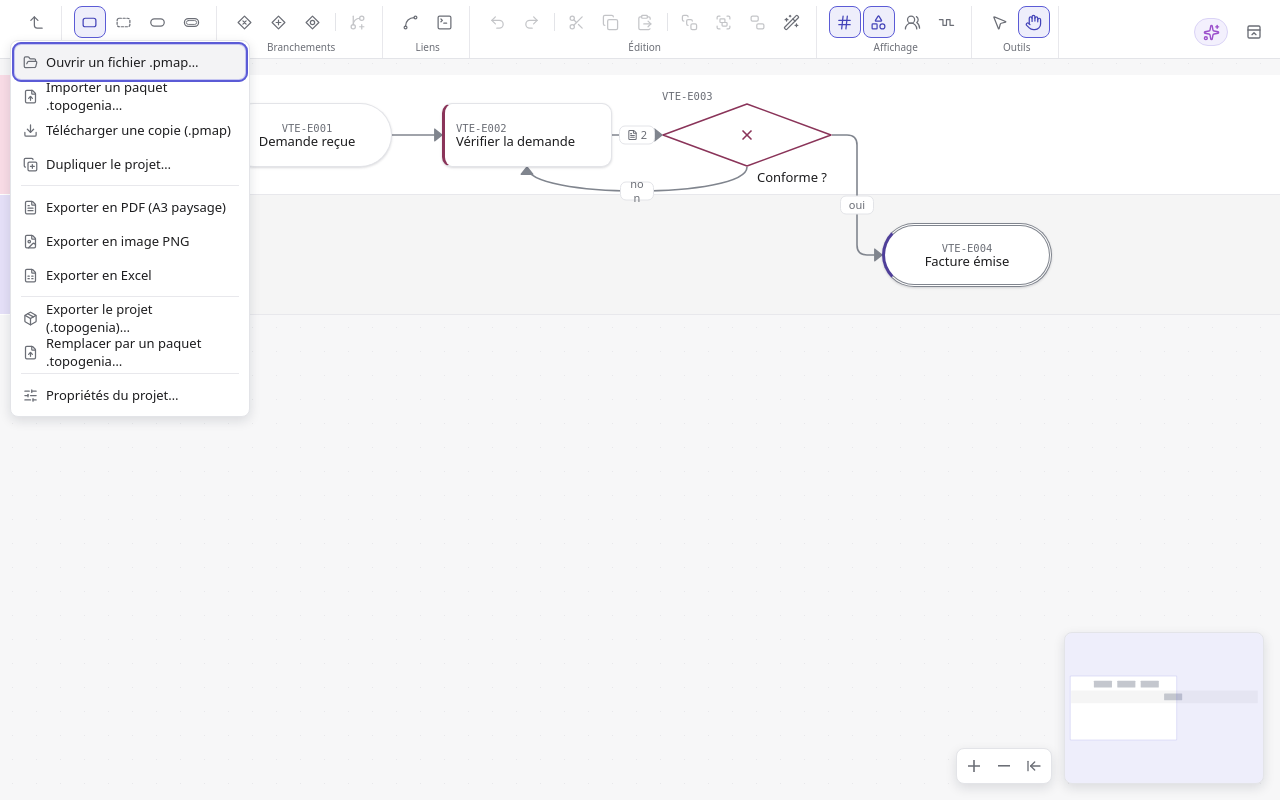
the dialogs of the File menu (B-2.4-53, B-2.4-55, ADR 058) › « Remplacer par un paquet » reads the version of the project and the days of the trash, then opens the replacement
The image size is (1280, 800).
Click the menu item "Remplacer par un paquet .topogenia…" at (130, 352), box left=15, top=335, right=245, bottom=369
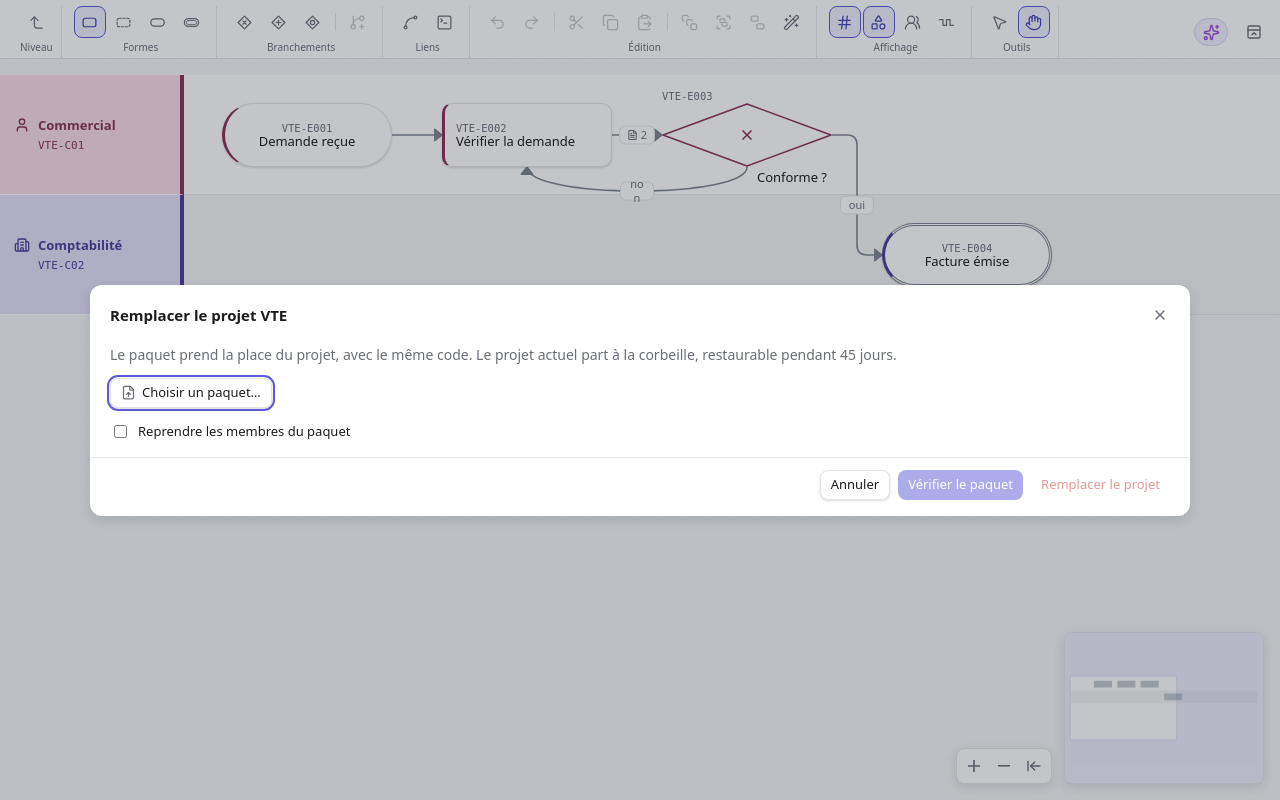
Result: the dialog "Remplacer le projet VTE" shows "restaurable pendant 45 jours" at left=110, top=344, right=897, bottom=364
Click the button with test id "import-package-close" at (1160, 314), box left=1146, top=300, right=1174, bottom=328
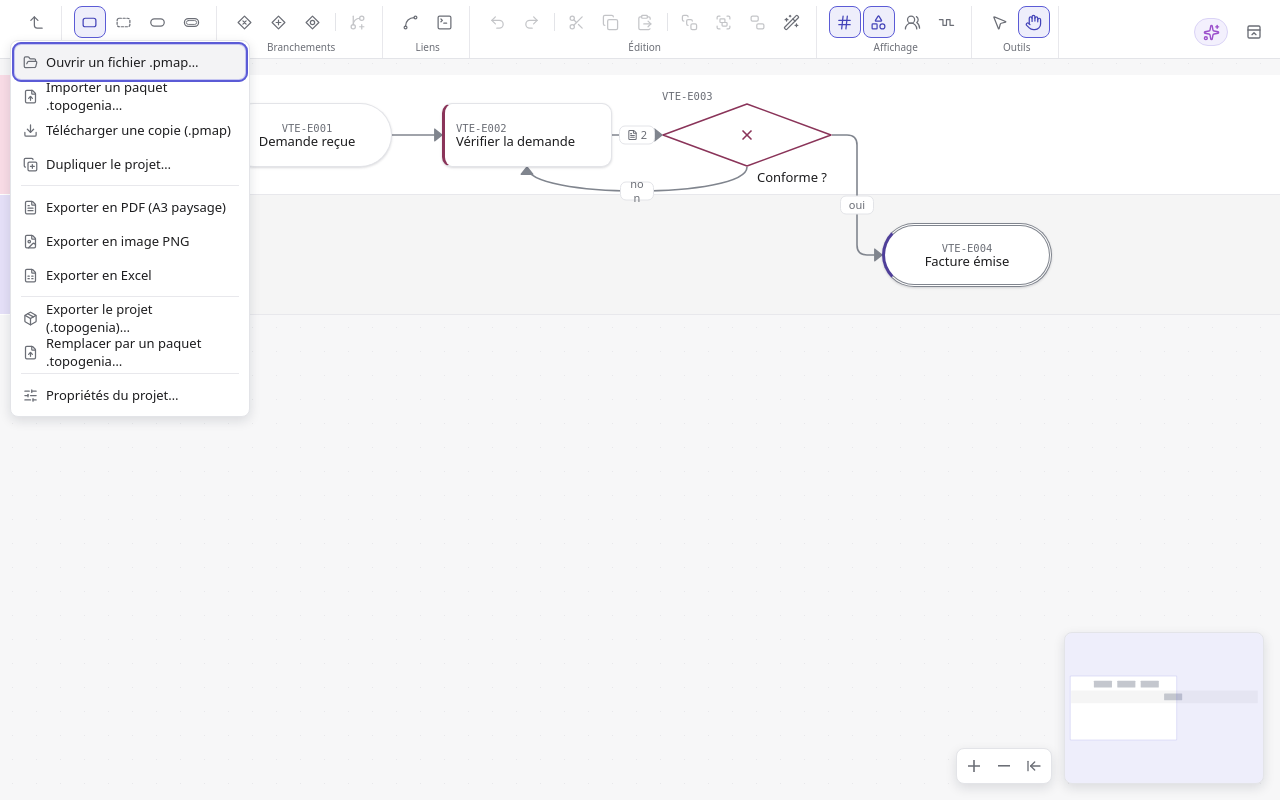
Click the menu item "Remplacer par un paquet .topogenia…" at (130, 352), box left=15, top=335, right=245, bottom=369
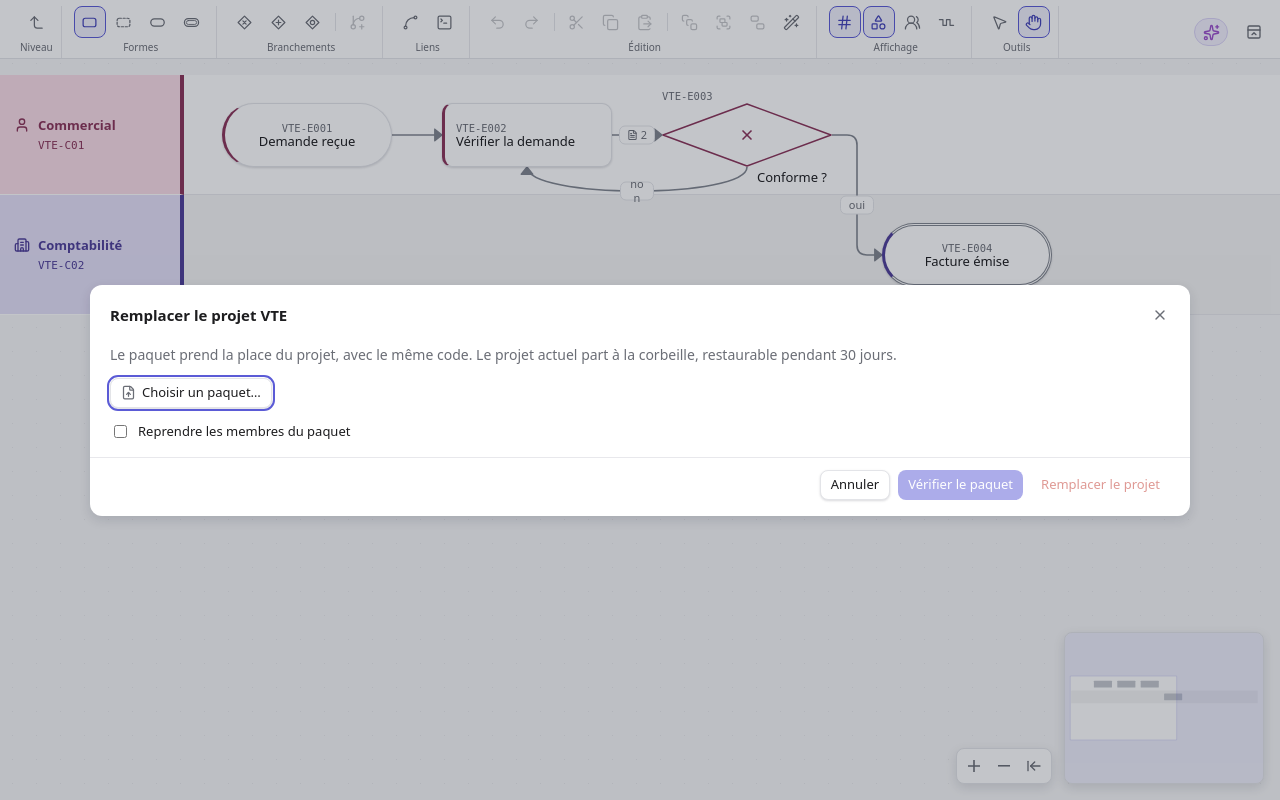
Result: the dialog "Remplacer le projet VTE" shows "restaurable pendant 30 jours" at left=110, top=344, right=897, bottom=364
